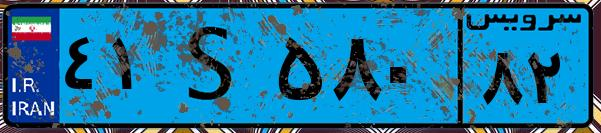0: (385, 28, 445, 110)
1: (110, 28, 158, 98)
2: (525, 38, 570, 115)
4: (57, 26, 110, 100)
5: (270, 28, 330, 110)
8: (330, 28, 385, 110), (475, 38, 525, 113)
S: (158, 12, 270, 120)
